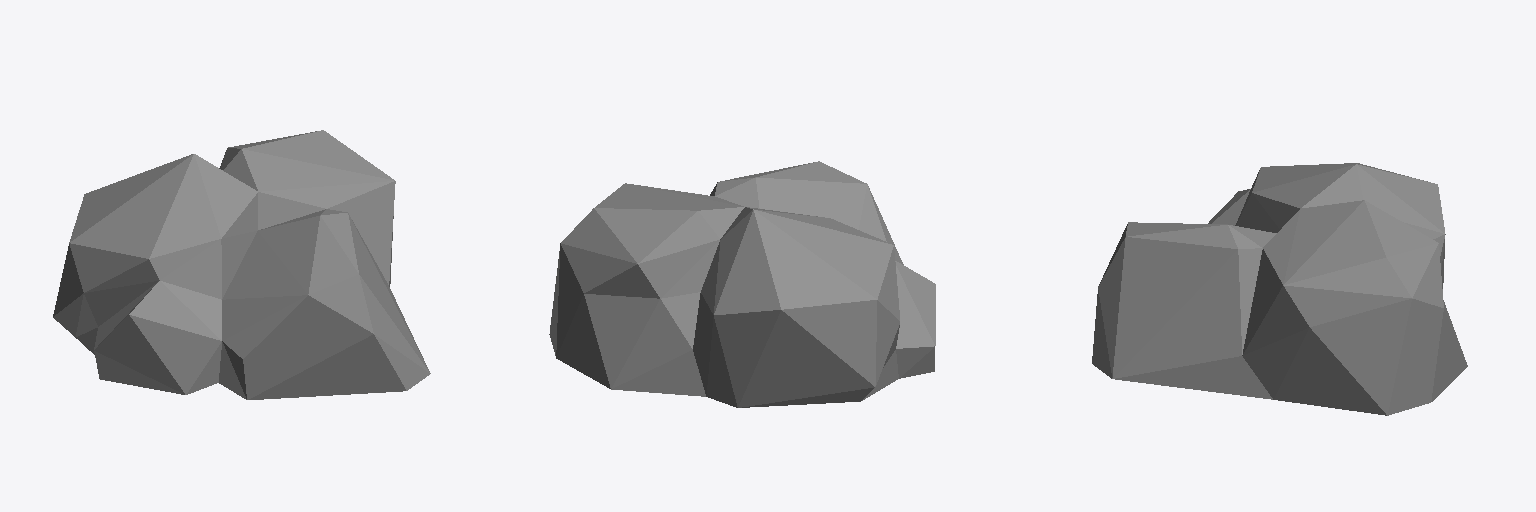
Rendered from Roca_03.obj.
3 views of the same model, side by side, from view 1: azimuth 30°, elevation 25°; view 2: azimuth 150°, elevation 25°; view 3: azimuth 270°, elevation 25° (orthographic).
Visible parts, largest first — view 1: Roca_003; view 2: Roca_003; view 3: Roca_003.
Part boxes in pixels (x1,y1,x2,y2): Roca_003: (53, 130, 430, 399); Roca_003: (549, 161, 935, 407); Roca_003: (1092, 163, 1467, 415).
Bounding box in the file's own units: 19.3 × 8.99 × 19.08.